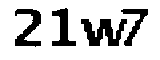1: (49, 6, 79, 50)
2: (11, 6, 45, 51)
7: (127, 3, 153, 54)
w: (78, 16, 125, 52)
